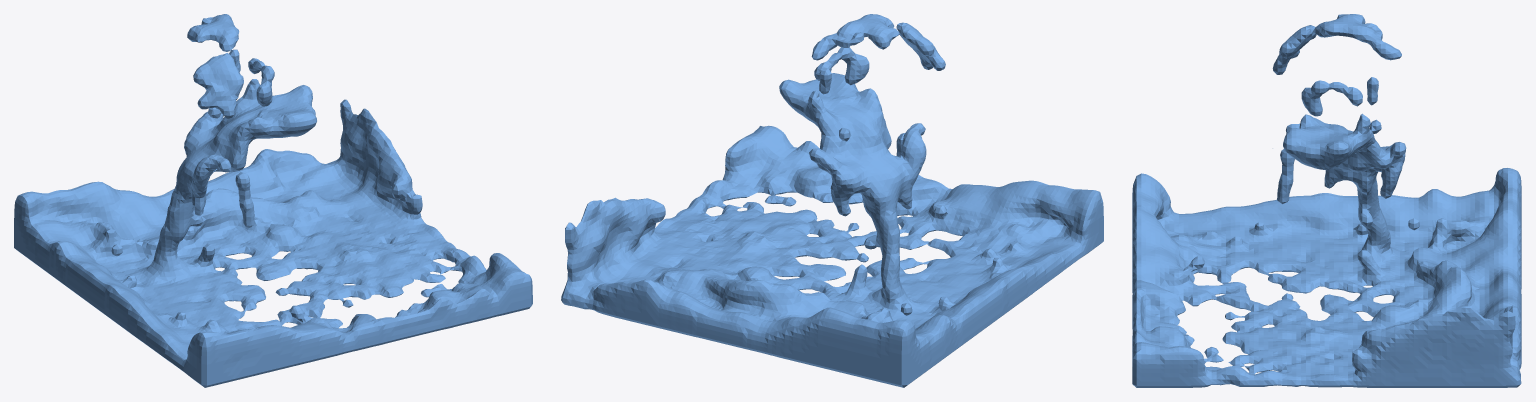
Rendered from water_0084.glb.
The picture shows the model from 3 angles, left to right: view 1: azimuth 30°, elevation 25°; view 2: azimuth 150°, elevation 25°; view 3: azimuth 270°, elevation 25°; orthographic projection. The views are drawn at different scales.
Visible parts, largest first — view 1: Water_0084; view 2: Water_0084; view 3: Water_0084.
Part boxes in pixels (bbox=[...]): Water_0084: bbox=[14, 14, 532, 387]; Water_0084: bbox=[561, 14, 1103, 387]; Water_0084: bbox=[1132, 14, 1521, 387].
Bounding box in the file's own units: 4.83 × 3.63 × 4.83.
